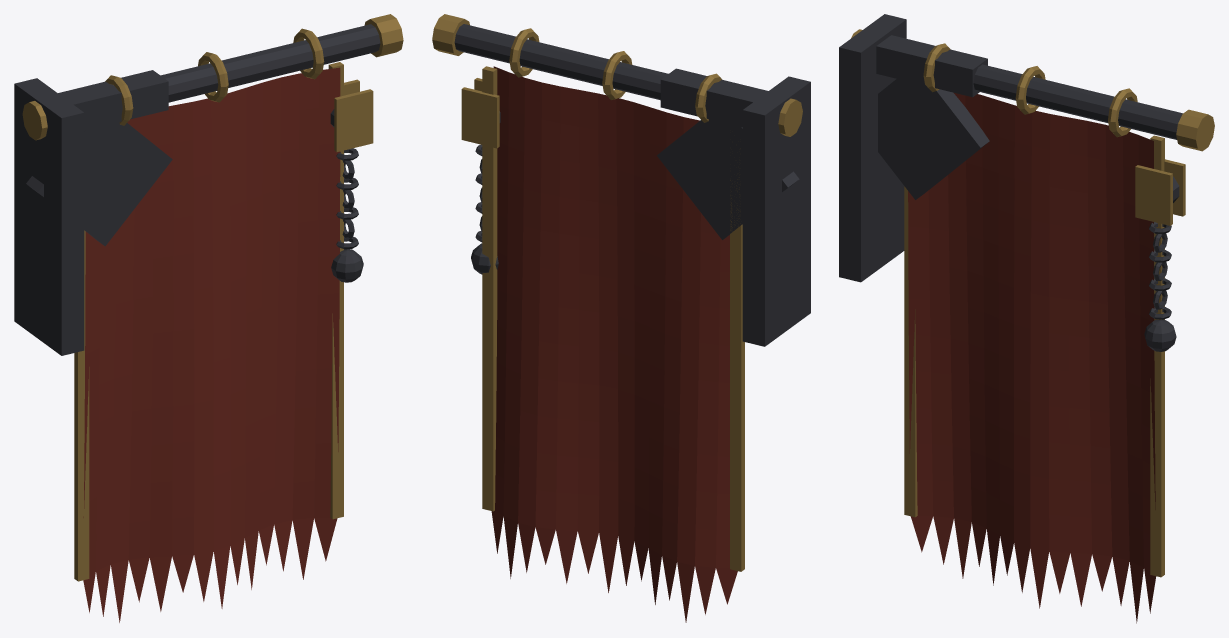
File: team_tether_banner_rig.glb
3 views of the same model, side by side, from view 1: azimuth 30°, elevation 25°; view 2: azimuth 150°, elevation 25°; view 3: azimuth 330°, elevation 25° (orthographic). The views are drawn at different scales.
Visible parts, largest first — view 1: BannerCloth, BracketPlate, BracketGusset, BannerHem, Bar, Selvage, BracketArm, Selvage.001, PulleyCheek2, BarCap.001, ChainWeight, BarCap (+3 smaller); view 2: BannerCloth, BracketPlate, BracketGusset, BannerHem, Selvage.001, Bar, Selvage, BracketArm, PulleyCheek, BarCap.001, BarCap, BarRing.001 (+2 smaller); view 3: BannerCloth, BracketPlate, BracketGusset, BannerHem, Bar, BracketArm, Selvage.001, Selvage, PulleyCheek2, BarCap.001, ChainWeight, PulleyCheek (+3 smaller).
Boxes of the visible parts, x1,y1,x2,y2 form: BannerCloth: [83, 67, 340, 575]; BracketPlate: [14, 78, 84, 355]; BracketGusset: [26, 122, 172, 246]; BannerHem: [83, 517, 337, 622]; Bar: [160, 24, 380, 102]; Selvage: [74, 230, 89, 581]; BracketArm: [58, 70, 168, 130]; Selvage.001: [328, 62, 343, 519]; PulleyCheek2: [334, 89, 373, 151]; BarCap.001: [364, 14, 403, 57]; ChainWeight: [331, 249, 363, 282]; BarCap: [22, 101, 47, 140]; BannerCloth: [493, 66, 729, 567]; BracketPlate: [742, 76, 810, 346]; BracketGusset: [657, 119, 799, 239]; BannerHem: [491, 510, 737, 622]; Selvage.001: [482, 66, 497, 511]; Bar: [454, 24, 668, 100]; Selvage: [730, 148, 744, 571]; BracketArm: [660, 68, 768, 127]; PulleyCheek: [461, 87, 499, 148]; BarCap.001: [432, 14, 469, 55]; BarCap: [778, 98, 802, 136]; BarRing.001: [602, 51, 632, 100]; BannerCloth: [908, 93, 1155, 571]; BracketPlate: [839, 14, 906, 282]; BracketGusset: [878, 79, 989, 199]; BannerHem: [911, 516, 1156, 623]; Bar: [973, 64, 1182, 139]; BracketArm: [876, 35, 987, 97]; Selvage.001: [1150, 135, 1164, 577]; Selvage: [904, 186, 917, 517]; PulleyCheek2: [1135, 165, 1172, 225]; BarCap.001: [1176, 109, 1214, 151]; ChainWeight: [1144, 319, 1176, 351]; PulleyCheek: [1164, 159, 1185, 216].
Bounding box in the file's own units: 1.59 × 2.35 × 0.36.
